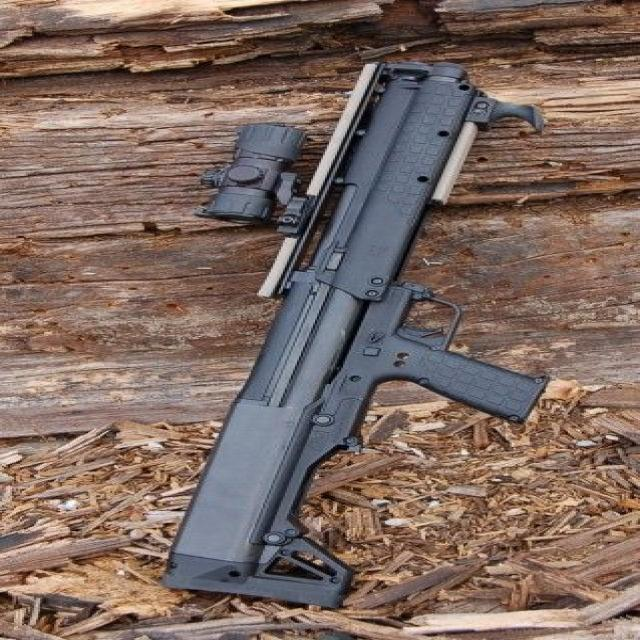shotgun: (86, 45, 584, 622)
